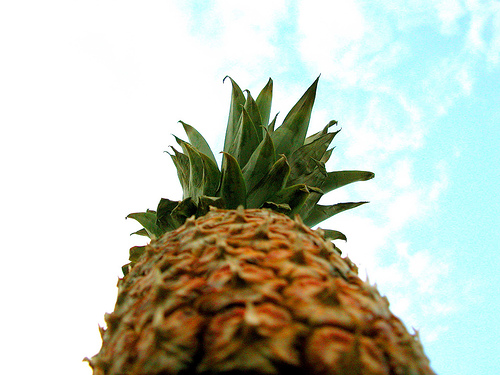pineapple: (81, 74, 440, 374)
